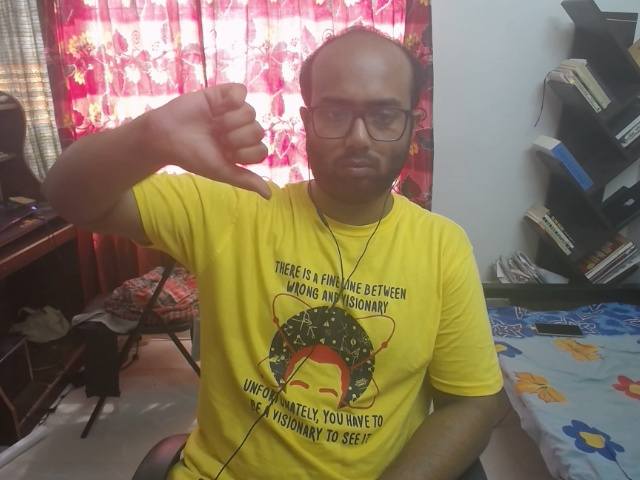nine: (151, 72, 295, 232)
